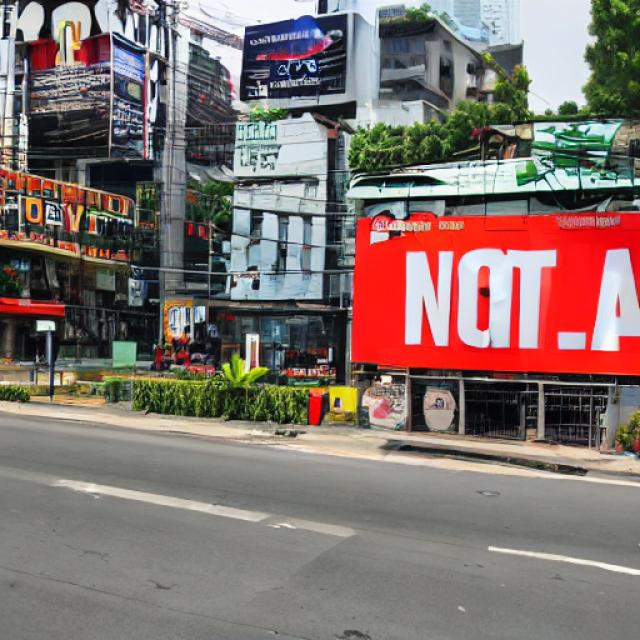Billboard: (350, 210, 640, 376), (237, 14, 351, 101)
